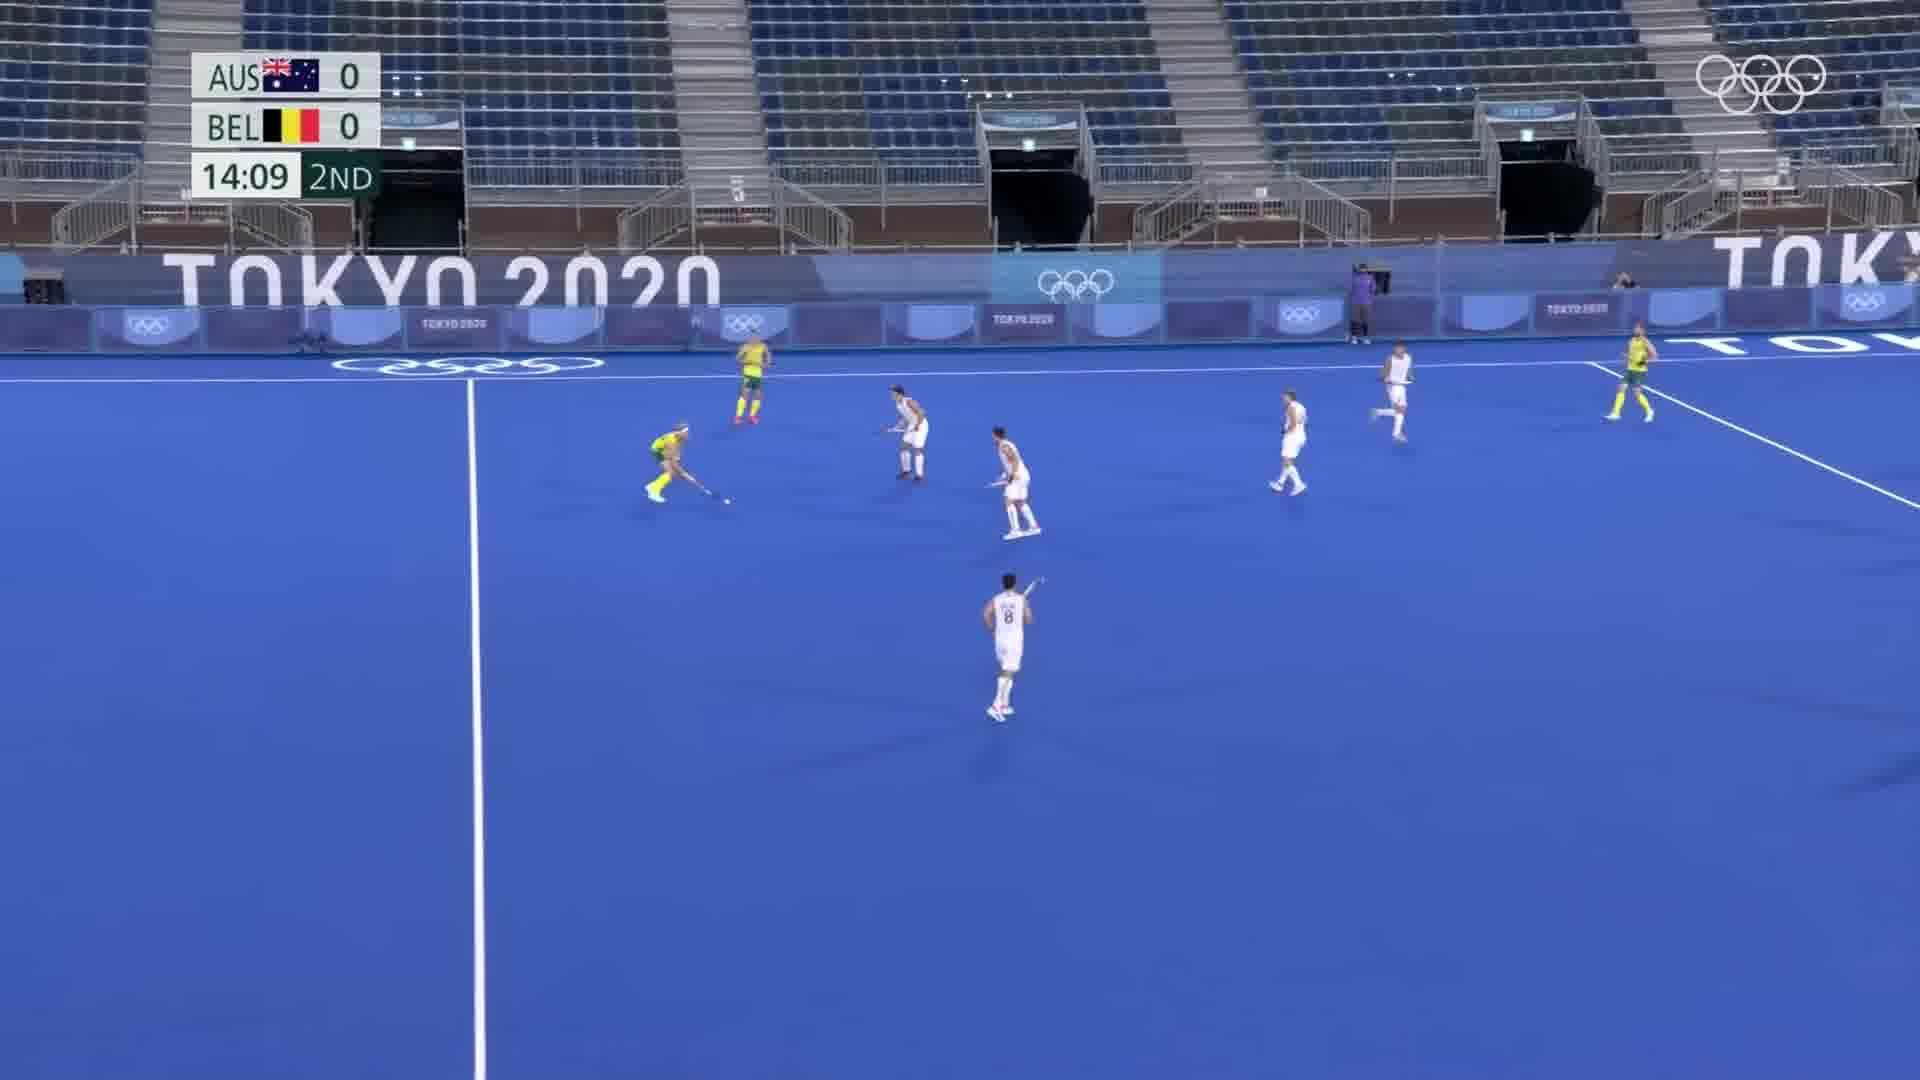ball: (716, 492, 741, 509)
